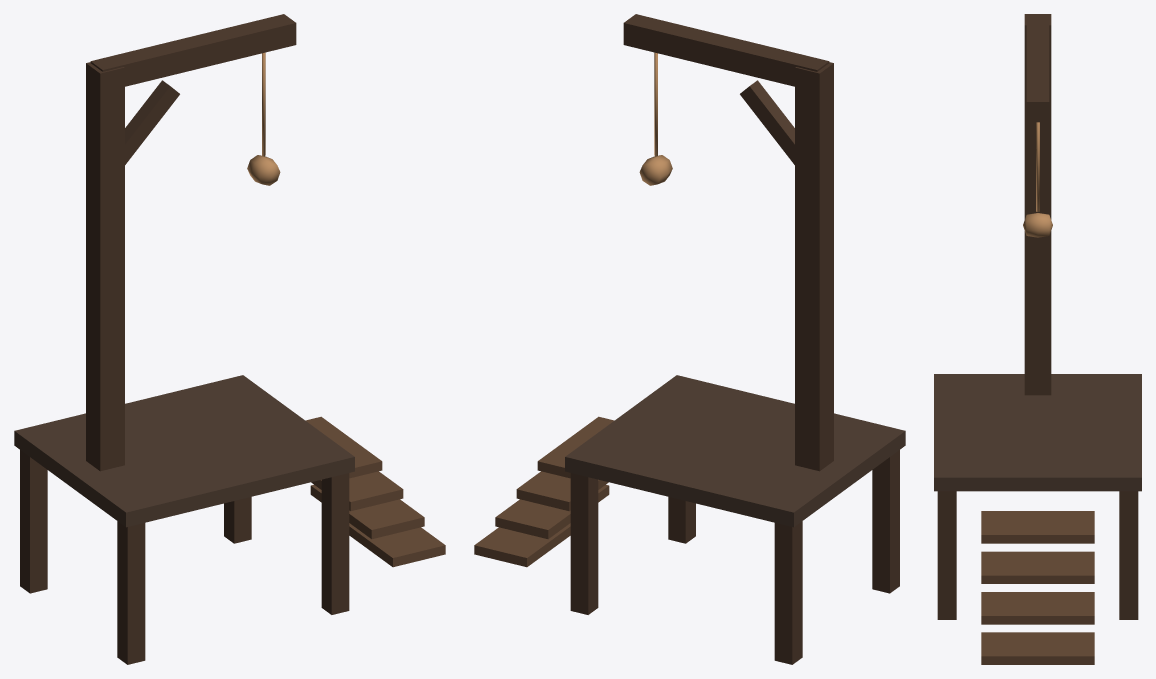
Rendered from gallows.glb.
3 views of the same model, side by side, from view 1: azimuth 30°, elevation 25°; view 2: azimuth 150°, elevation 25°; view 3: azimuth 270°, elevation 25° (orthographic). The views are drawn at different scales.
Parts seen in each view (by area): view 1: gallows; view 2: gallows; view 3: gallows.
Part boxes in pixels (x1=…): gallows: x1=14, y1=14, x2=445, y2=664; gallows: x1=474, y1=14, x2=905, y2=664; gallows: x1=934, y1=14, x2=1141, y2=664.
Size of the model in its own units: 1.96 by 3.01 by 1.1.
